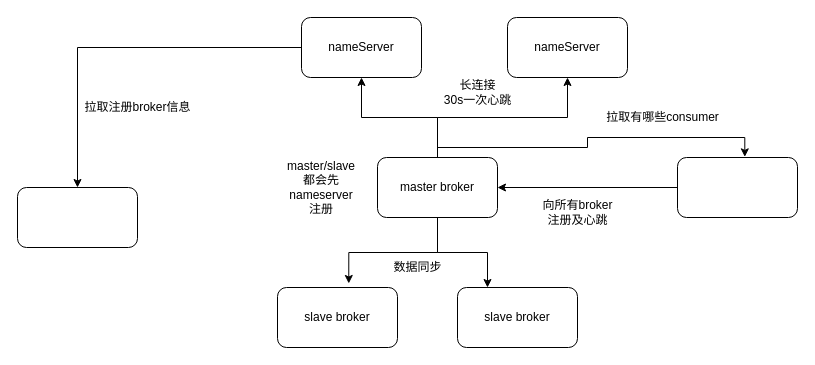
The diagram is 815 pixels wide and 365 high, and some of its shapes have lost their labels. Here are the shapes that lost their labels. From the top down, the centre of each, then its label:
(737,187): comsumer
(77,217): producer
